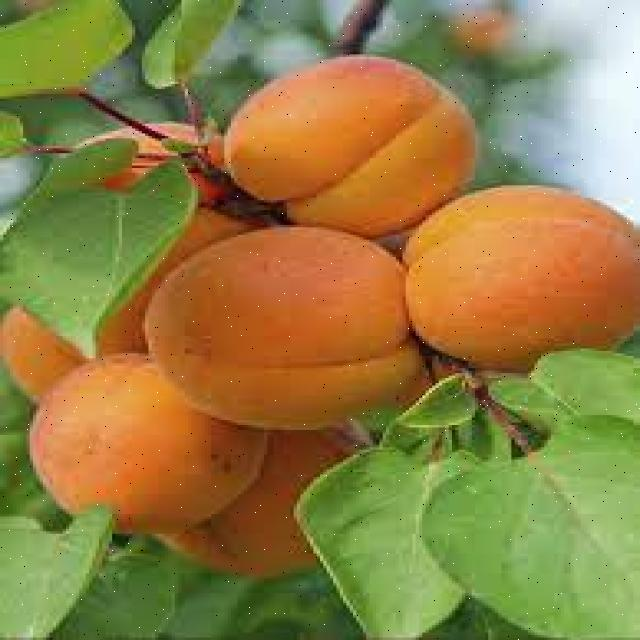kayisi: (146, 234, 435, 440), (21, 334, 293, 541), (181, 62, 501, 224), (396, 178, 640, 352)
